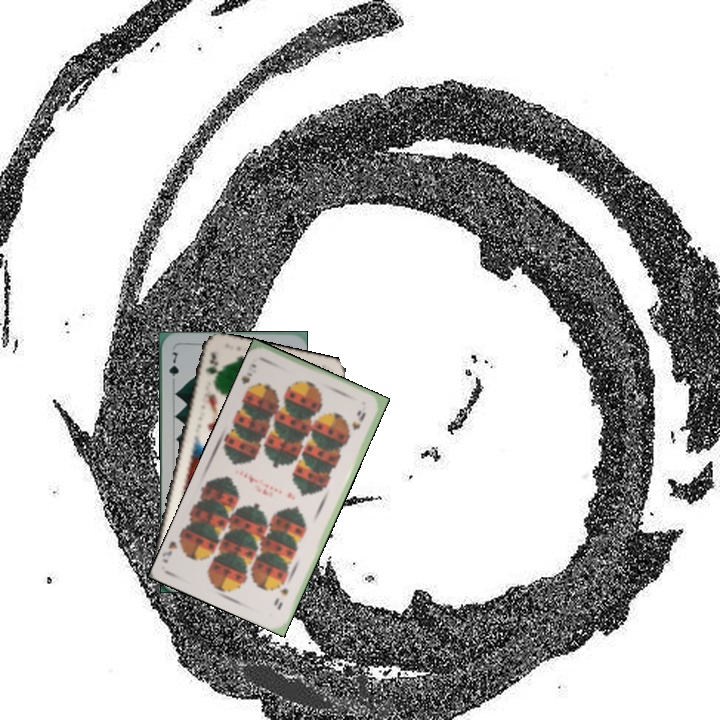G7: (165, 348, 181, 387)
GK: (201, 347, 220, 377)
S9: (238, 359, 259, 396), (271, 584, 291, 613)
